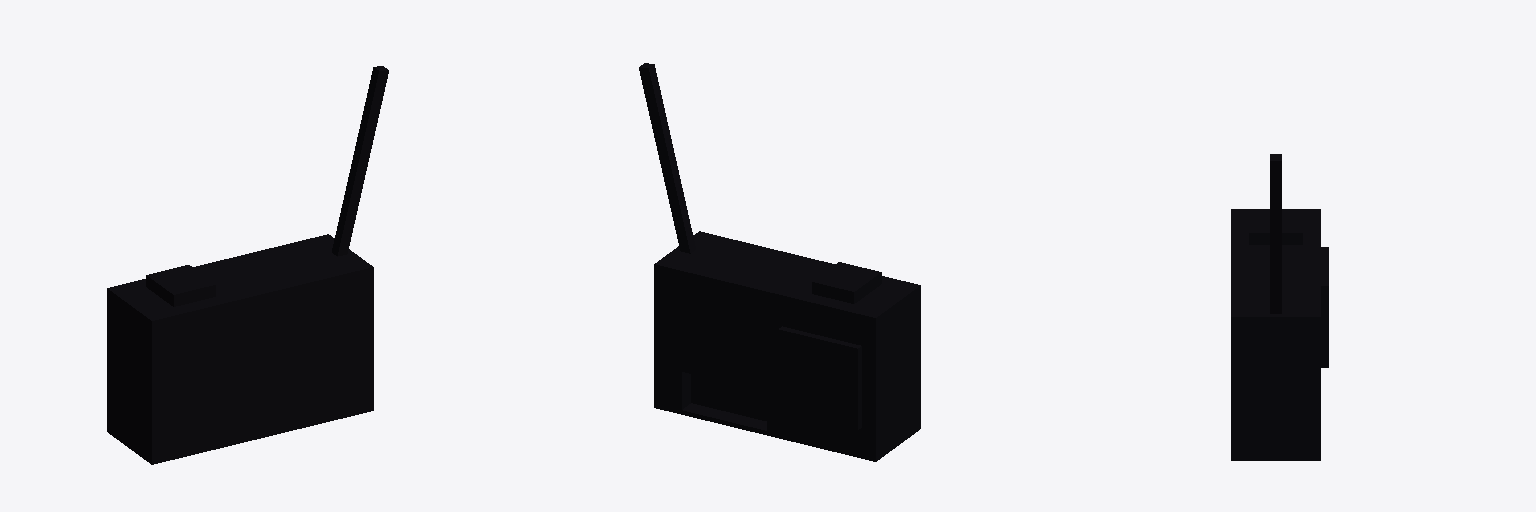
The model's file is Radio.obj.
3 views of the same model, side by side, from view 1: azimuth 30°, elevation 25°; view 2: azimuth 150°, elevation 25°; view 3: azimuth 270°, elevation 25° (orthographic).
Parts seen in each view (by area): view 1: Radio; view 2: Radio; view 3: Radio.
Part boxes in pixels (bbox=[...]): Radio: bbox=[107, 66, 388, 464]; Radio: bbox=[639, 63, 920, 461]; Radio: bbox=[1231, 154, 1328, 460].
Size of the model in its own units: 0.3989 by 0.4738 by 0.1317.